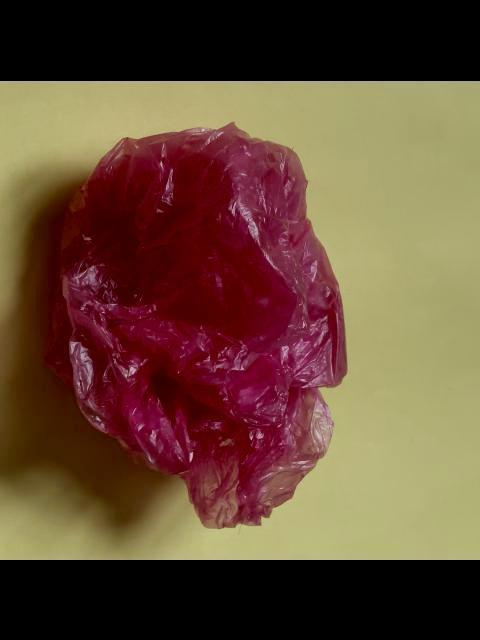plasticbag: (40, 120, 350, 530)
